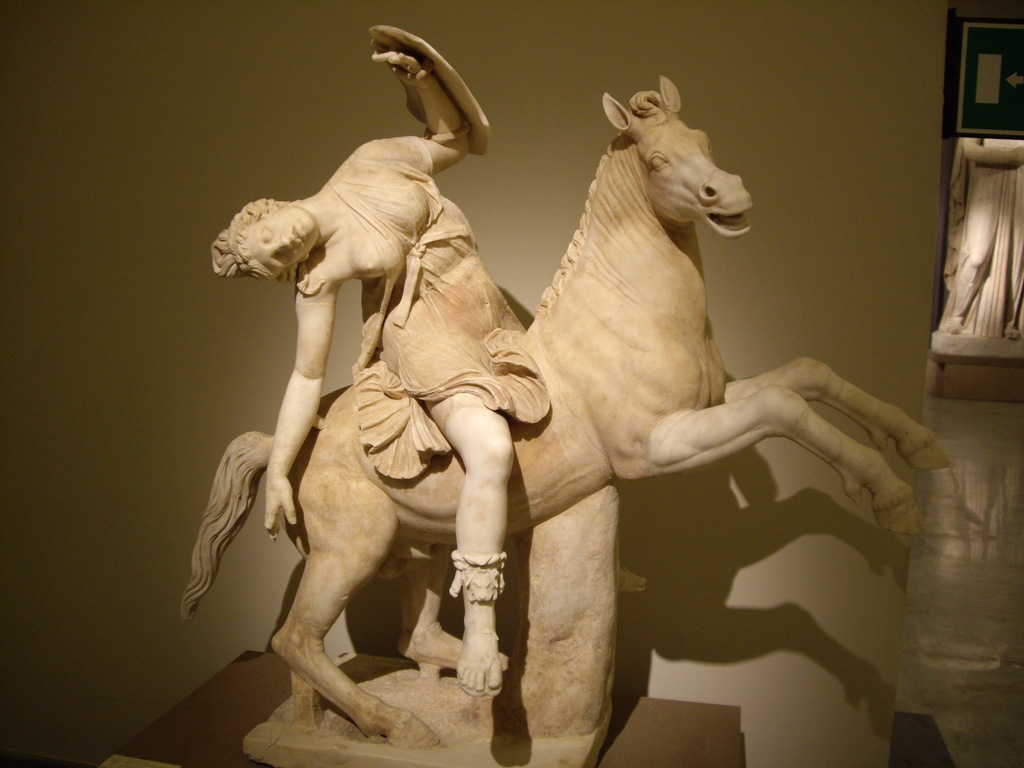Animal: (175, 71, 944, 751)
